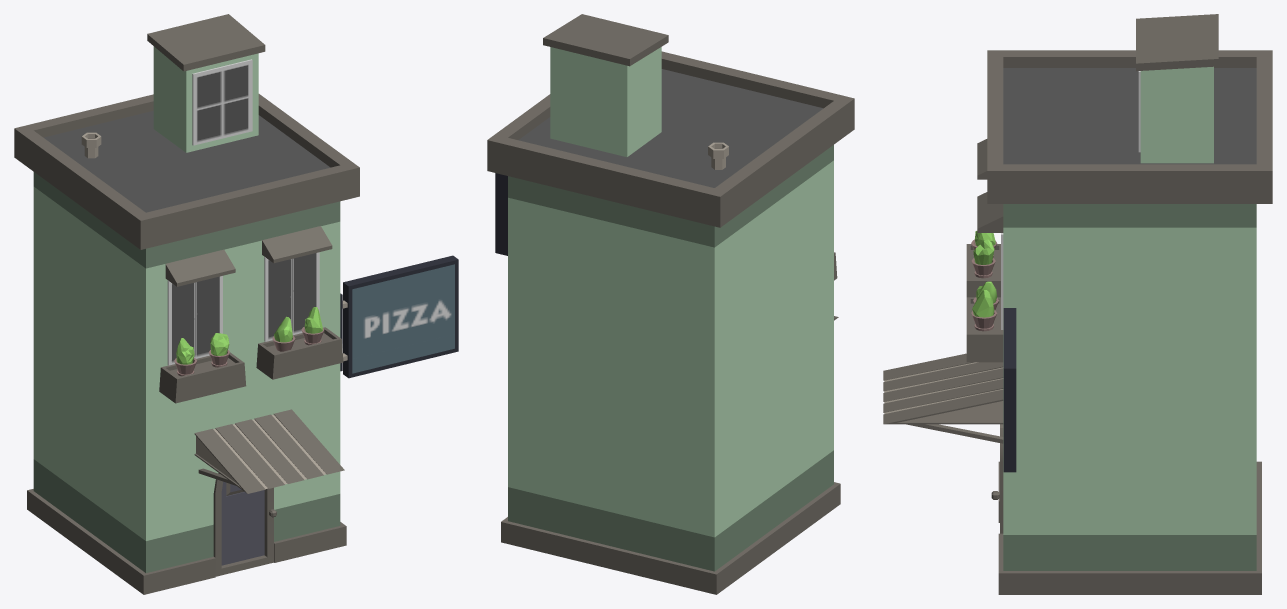
File: miniPizza_color02.fbx
3 renders of one model, left to right at view 1: azimuth 30°, elevation 25°; view 2: azimuth 150°, elevation 25°; view 3: azimuth 270°, elevation 25°, orthographic. The views are drawn at different scales.
Parts seen in each view (by area): view 1: miniPizza_color02; view 2: miniPizza_color02; view 3: miniPizza_color02.
Part boxes in pixels (x1,y1,x2,y2): miniPizza_color02: [14, 14, 458, 594]; miniPizza_color02: [487, 14, 854, 594]; miniPizza_color02: [883, 14, 1272, 594].
Size of the model in its own units: 740 by 1012 by 680.
